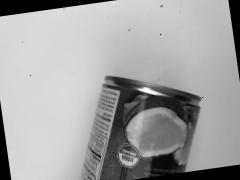metal: (28, 24, 224, 180)
